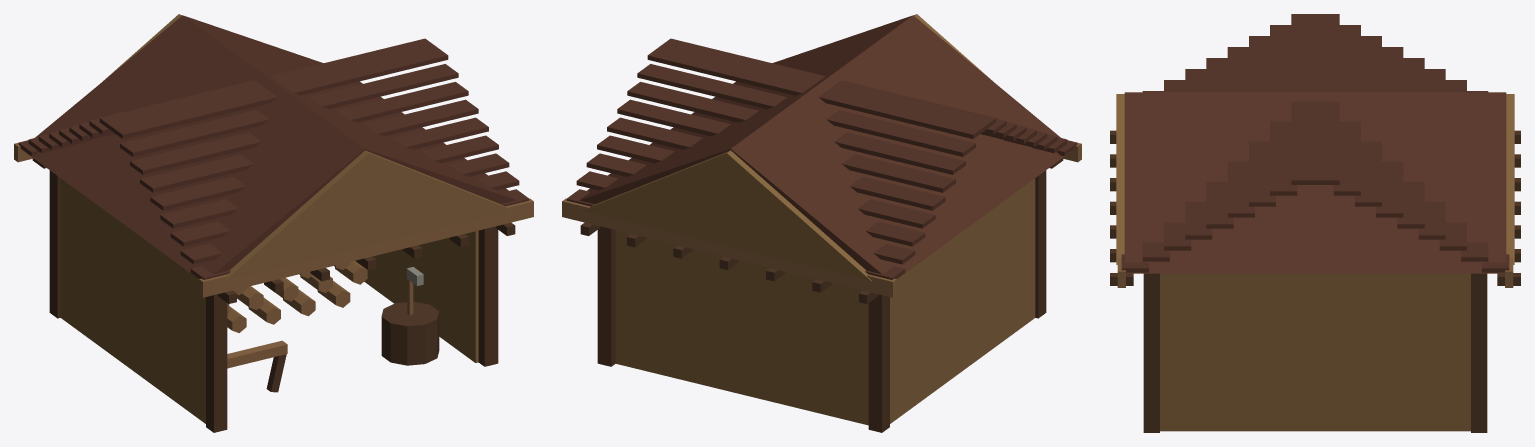
Rendered from firewood.glb.
The picture shows the model from 3 angles, left to right: view 1: azimuth 30°, elevation 25°; view 2: azimuth 150°, elevation 25°; view 3: azimuth 270°, elevation 25°; orthographic projection. The views are drawn at different scales.
Visible parts, largest first — view 1: firewood; view 2: firewood; view 3: firewood.
Part boxes in pixels (<box>): firewood: <box>14,14,533,432</box>; firewood: <box>562,14,1081,432</box>; firewood: <box>1110,14,1520,432</box>.
Bounding box in the file's own units: 4.4 × 3.25 × 4.52.
